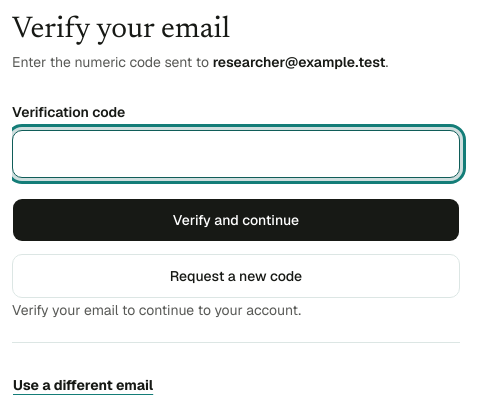
Test: ManagedAuthForm › shows the latest verification response after an earlier resend response
Click the button "Request a new code" at (236,276), box [12,254,460,298]
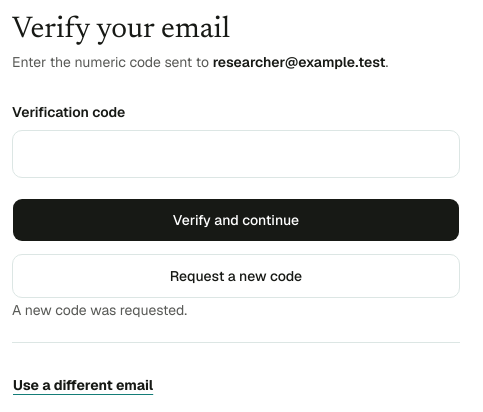
Check: the text "A new code was requested." is shown, box [12,300,187,318]
Type "123456" into the field labelled "Verification code" at (236,154), box [12,130,460,178]
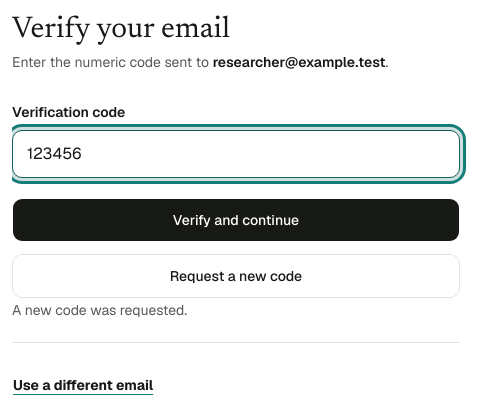
Click the button "Verify and continue" at (236,220), box [12,198,460,242]
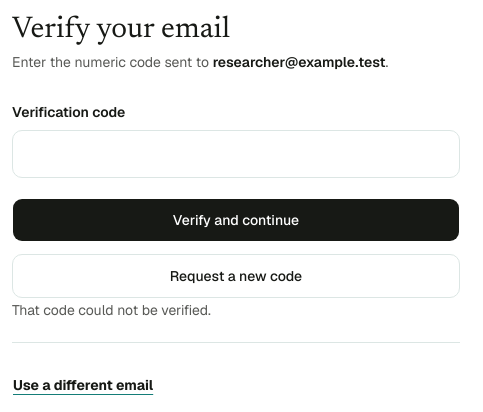
Check: the text "That code could not be verified." is shown, box [12,300,211,318]
Check: the text "A new code was requested." is gone
